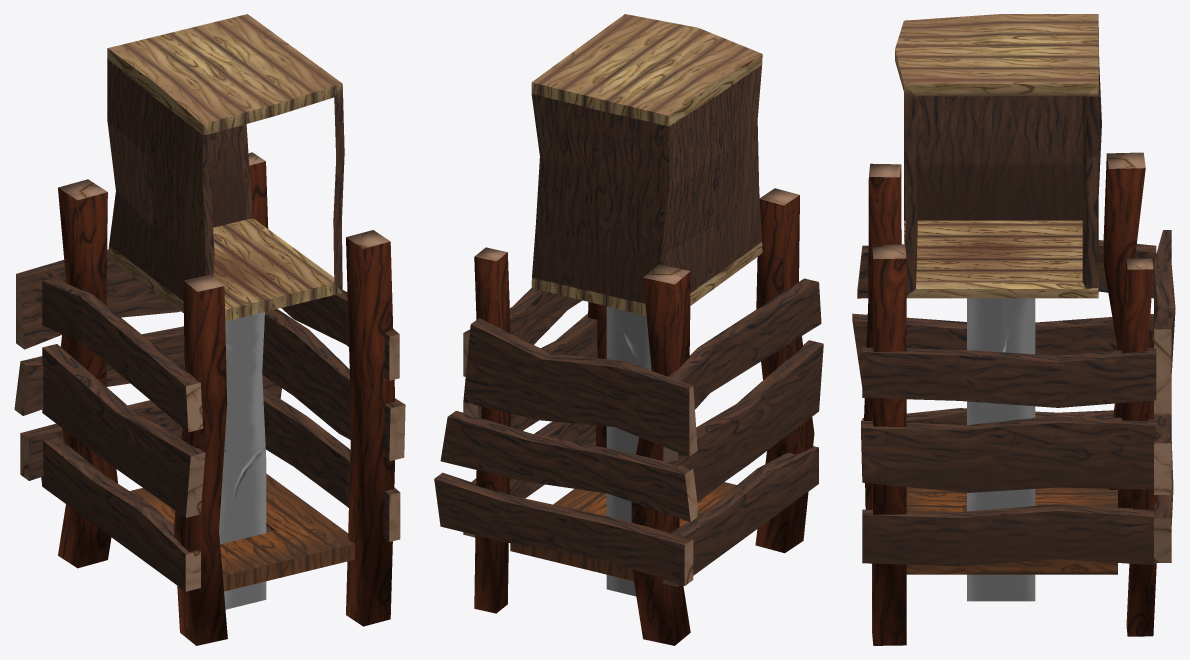
File: Lift.fbx
The picture shows the model from 3 angles, left to right: view 1: azimuth 30°, elevation 25°; view 2: azimuth 150°, elevation 25°; view 3: azimuth 270°, elevation 25°; orthographic projection. The views are drawn at different scales.
Parts seen in each view (by area): view 1: Tempat Lift, Lift; view 2: Tempat Lift, Lift; view 3: Tempat Lift, Lift.
Part boxes in pixels (bbox=[...]): Tempat Lift: bbox=[14, 152, 405, 645]; Lift: bbox=[107, 14, 344, 609]; Tempat Lift: bbox=[434, 188, 823, 645]; Lift: bbox=[531, 14, 762, 596]; Tempat Lift: bbox=[852, 152, 1175, 645]; Lift: bbox=[895, 14, 1101, 601].
Size of the model in its own units: 204 by 397 by 213.
2 materials, 2 textured.
